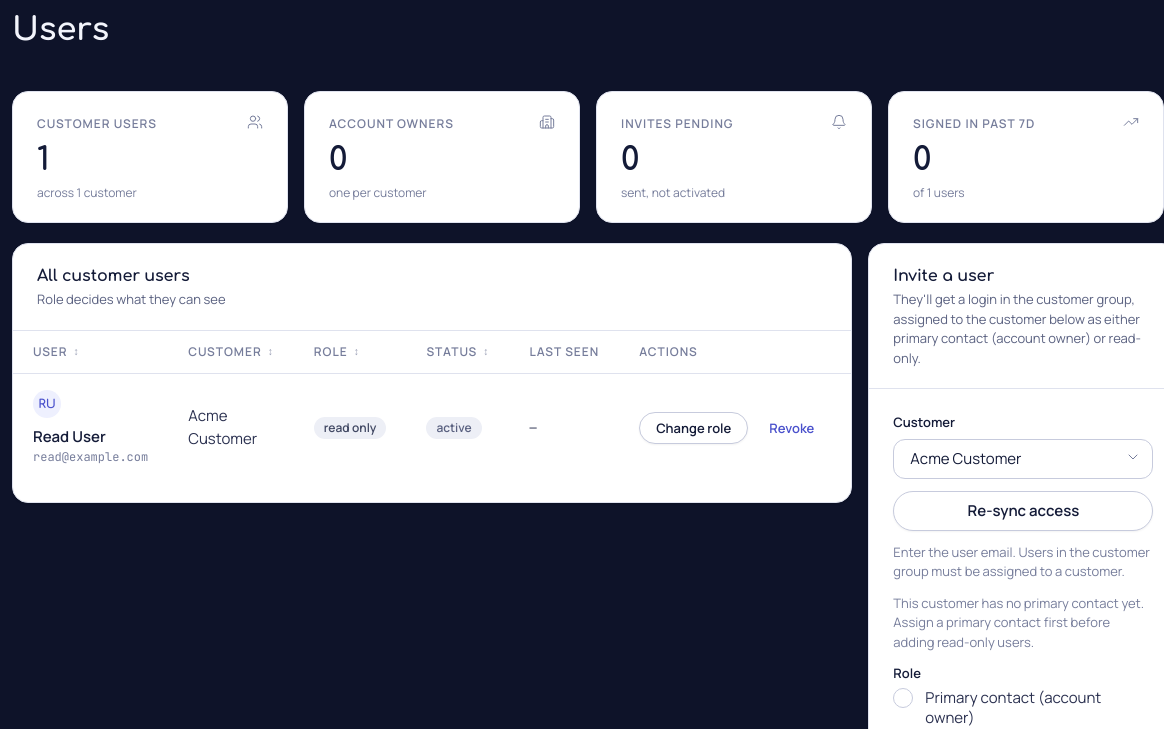
Test: UsersAdminPage customer access actions › reports a re-sync with write errors as failed
Step 1. Click the button "Re-sync access" → (1023, 511), box [893,491,1153,531]
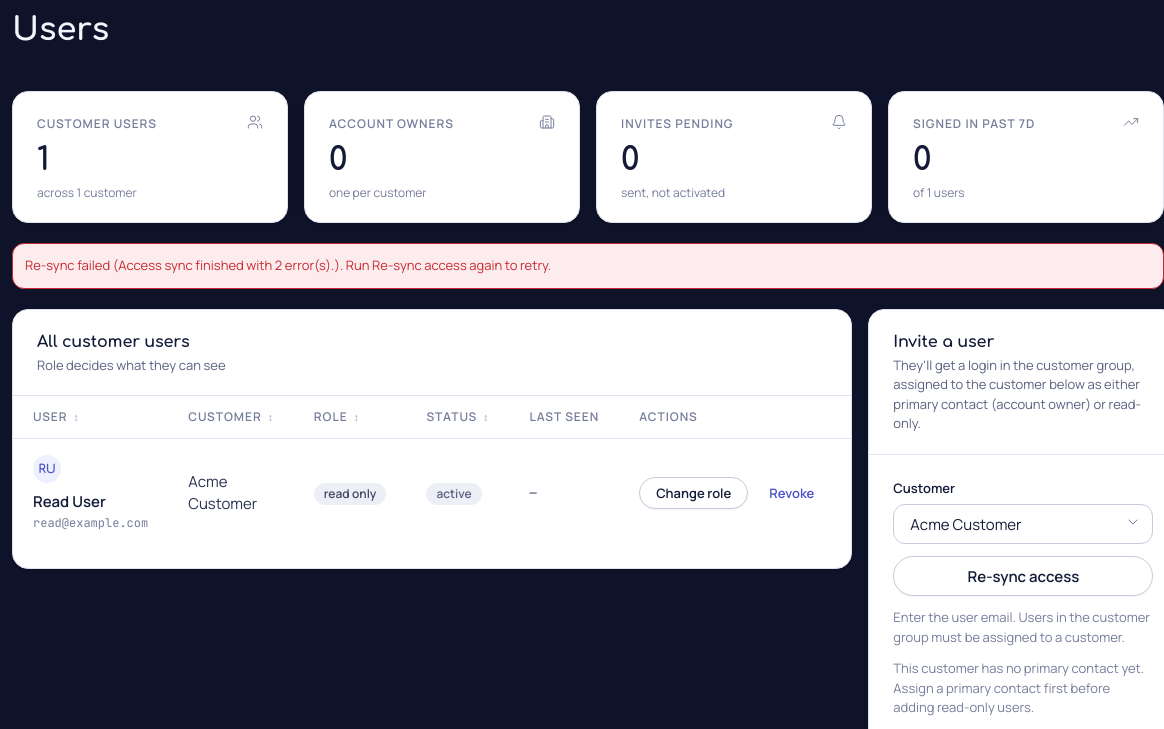
Expected: the text "Re-sync failed (Access sync finished with 2 error(s).)" is shown, [25,256,551,274]
